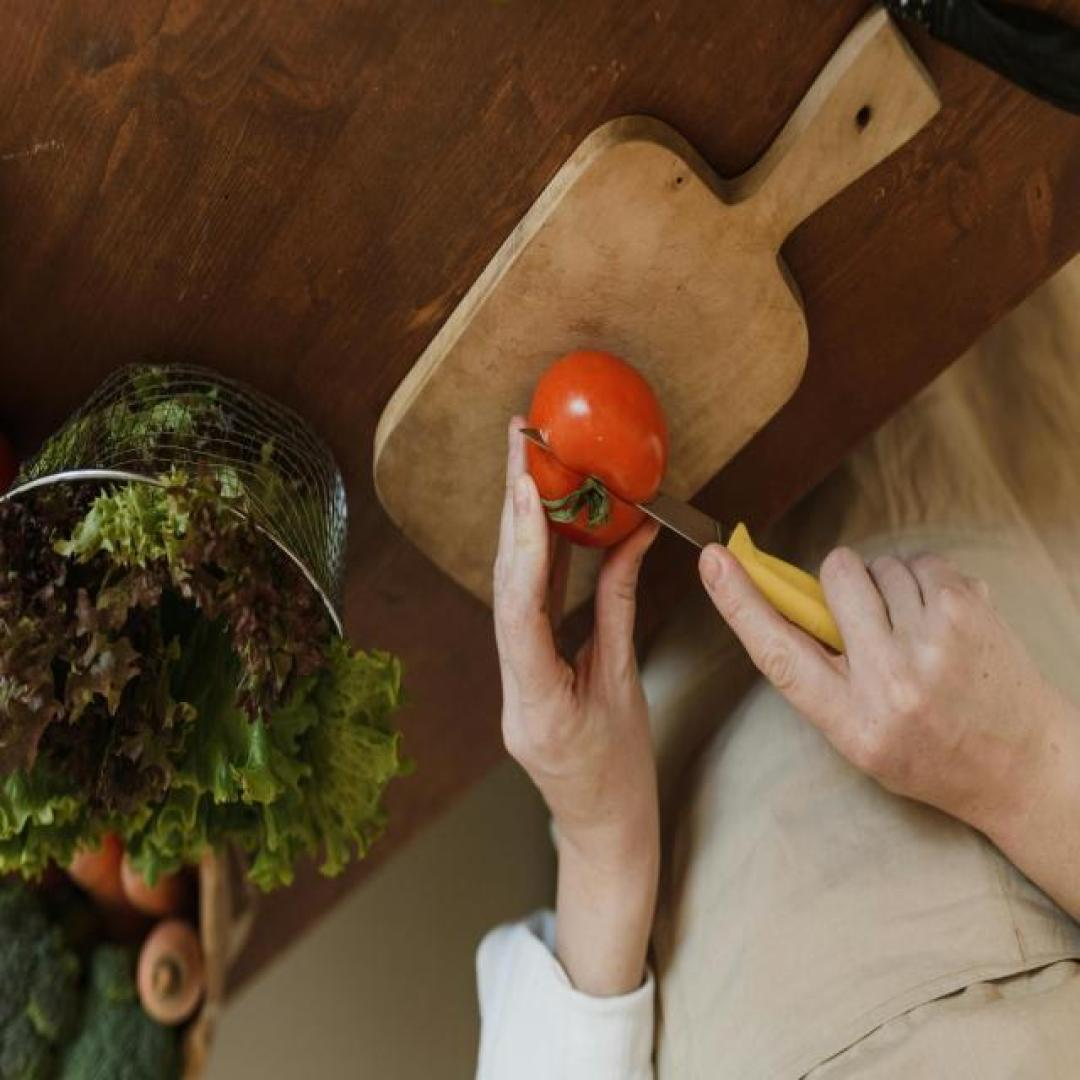matang: (525, 350, 668, 548)
